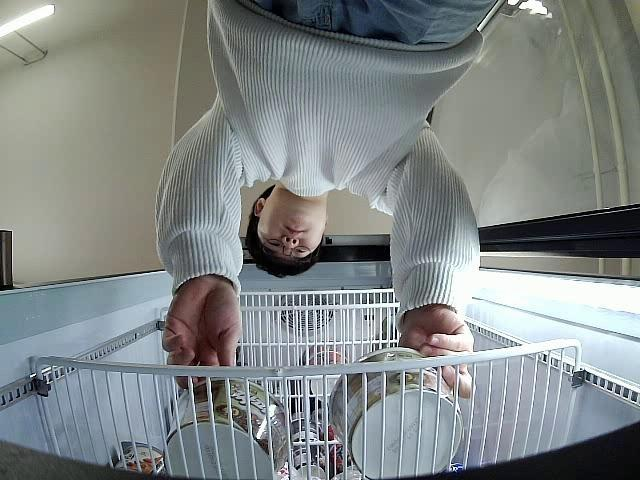03_chapagetti_L: (329, 346, 464, 480), (163, 377, 294, 480)
